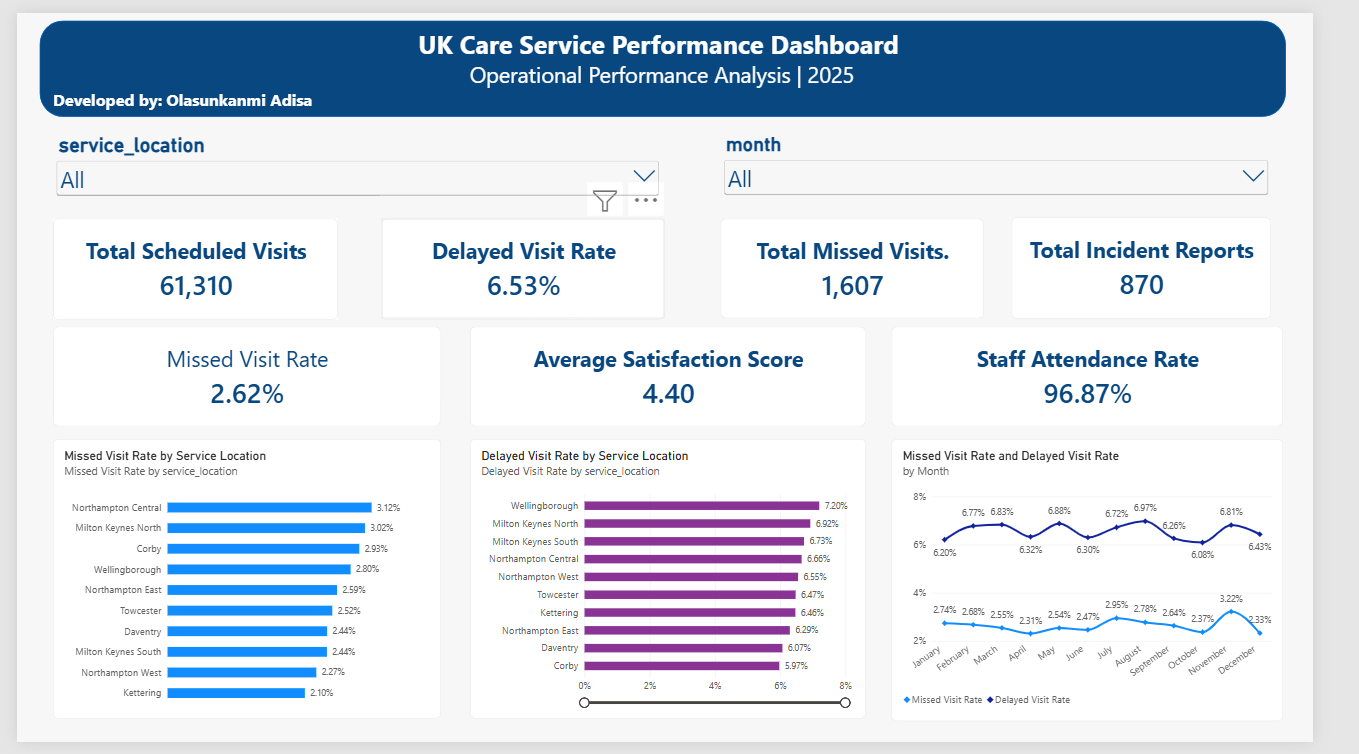

This screenshot's page, from the dashboard's own definition file:
{"tool":"powerbi","page":{"name":"Page 1","canvas":[1920,1080],"ordinal":0},"visuals":[{"type":"cardVisual","fields":{"Data":["UK_Care_Service_Validated.Missed Visit Rate"]},"box":[53.6,464.6,574.8,148.9],"z":0},{"type":"cardVisual","fields":{"Data":["UK_Care_Service_Validated.Delayed Visit Rate"]},"box":[539.1,303.8,420,150],"z":1000},{"type":"cardVisual","fields":{"Data":["UK_Care_Service_Validated.Staff Attendance Rate"]},"box":[1295.6,464.6,580.8,148.9],"z":2000},{"type":"cardVisual","fields":{"Data":["UK_Care_Service_Validated.Total Incident Reports"]},"box":[1473.3,302.2,384.4,151.1],"z":3000},{"type":"cardVisual","fields":{"Data":["UK_Care_Service_Validated.Average Satisfaction Score"]},"box":[670.1,464.6,586.7,148.9],"z":4000},{"type":"clusteredBarChart","title":"Missed Visit Rate by Service Location","fields":{"Category":["UK_Care_Service_Validated.service_location"],"Y":["UK_Care_Service_Validated.Missed Visit Rate"]},"box":[53.6,631.4,574.8,414],"z":5000},{"type":"clusteredBarChart","title":"Delayed Visit Rate by Service Location","fields":{"Category":["UK_Care_Service_Validated.service_location"],"Y":["UK_Care_Service_Validated.Delayed Visit Rate"]},"box":[670.1,631.4,586.7,414],"z":6000},{"type":"lineChart","fields":{"Category":["UK_Care_Service_Validated.service_date.Variation.Date Hierarchy.Month"],"Y":["UK_Care_Service_Validated.Missed Visit Rate","UK_Care_Service_Validated.Delayed Visit Rate"]},"box":[1295.6,631.1,580,417.8],"z":8000},{"type":"shape","box":[32.8,11.9,1846.5,143],"z":9000},{"type":"textbox","box":[53.3,20,1804.4,133.3],"z":10000},{"type":"cardVisual","fields":{"Data":["UK_Care_Service_Validated.Total Scheduled Visits"]},"box":[53.6,303.8,422.5,150.6],"z":11000},{"type":"cardVisual","fields":{"Data":["UK_Care_Service_Validated.Total Missed Visits."]},"box":[1042.4,303.8,390.2,148.9],"z":11001},{"type":"slicer","fields":{"Values":["UK_Care_Service_Validated.service_location"]},"box":[53.6,178.7,902.4,95.3],"z":11002},{"type":"slicer","fields":{"Values":["UK_Care_Service_Validated.month"]},"box":[1042.4,178.7,816,125.1],"z":11003}]}

Visuals, with their boxes in screenshot pixels (x1, y1, x2, y2), scaled from the page's 1920x1080 canvas onto the 1359x754 screenshot:
cardVisual - UK_Care_Service_Validated.Missed Visit Rate: (38,324,445,428)
cardVisual - UK_Care_Service_Validated.Delayed Visit Rate: (382,212,679,317)
cardVisual - UK_Care_Service_Validated.Staff Attendance Rate: (917,324,1328,428)
cardVisual - UK_Care_Service_Validated.Total Incident Reports: (1043,211,1315,316)
cardVisual - UK_Care_Service_Validated.Average Satisfaction Score: (474,324,890,428)
"Missed Visit Rate by Service Location" clusteredBarChart: (38,441,445,730)
"Delayed Visit Rate by Service Location" clusteredBarChart: (474,441,890,730)
lineChart - UK_Care_Service_Validated.service_date.Variation.Date Hierarchy.Month x UK_Care_Service_Validated.Missed Visit Rate: (917,441,1328,732)
shape: (23,8,1330,108)
textbox: (38,14,1315,107)
cardVisual - UK_Care_Service_Validated.Total Scheduled Visits: (38,212,337,317)
cardVisual - UK_Care_Service_Validated.Total Missed Visits.: (738,212,1014,316)
slicer - UK_Care_Service_Validated.service_location: (38,125,677,191)
slicer - UK_Care_Service_Validated.month: (738,125,1315,212)
